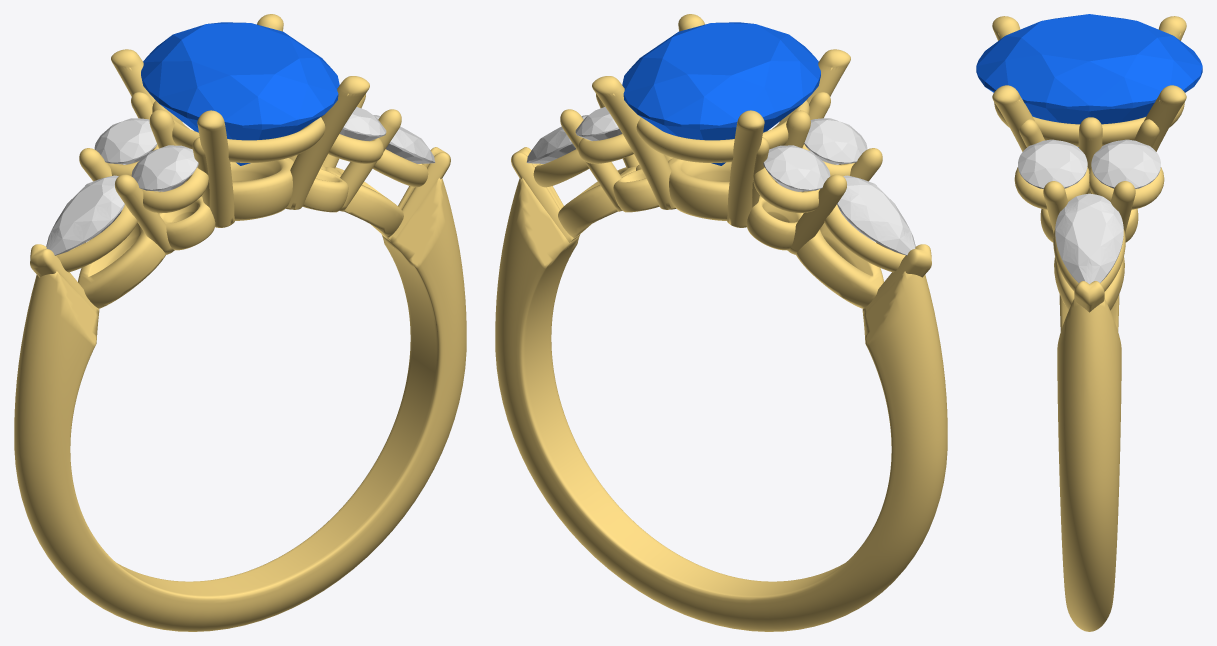
The model's file is RyanMongno3.13_blender.glb.
The picture shows the model from 3 angles, left to right: view 1: azimuth 30°, elevation 25°; view 2: azimuth 150°, elevation 25°; view 3: azimuth 270°, elevation 25°; orthographic projection.
Parts seen in each view (by area): view 1: 3.13 ct PT for 3d model, 3.13 ct sapph for 3d model, 2.66 ct dia for 3d model.001, 2.66 ct dia for 3d model.005, 2.66 ct dia for 3d model.004, 2.66 ct dia for 3d model.002, 2.66 ct dia for 3d model; view 2: 3.13 ct PT for 3d model, 3.13 ct sapph for 3d model, 2.66 ct dia for 3d model.001, 2.66 ct dia for 3d model.004, 2.66 ct dia for 3d model.005, 2.66 ct dia for 3d model.002, 2.66 ct dia for 3d model.003; view 3: 3.13 ct PT for 3d model, 3.13 ct sapph for 3d model, 2.66 ct dia for 3d model.002, 2.66 ct dia for 3d model, 2.66 ct dia for 3d model.003.
Boxes of the visible parts, left/top/right/bottom form: 3.13 ct PT for 3d model: left=14, top=14, right=466, bottom=631; 3.13 ct sapph for 3d model: left=141, top=22, right=339, bottom=165; 2.66 ct dia for 3d model.001: left=46, top=175, right=124, bottom=255; 2.66 ct dia for 3d model.005: left=131, top=145, right=198, bottom=191; 2.66 ct dia for 3d model.004: left=94, top=118, right=157, bottom=164; 2.66 ct dia for 3d model.002: left=373, top=115, right=435, bottom=163; 2.66 ct dia for 3d model: left=339, top=107, right=386, bottom=141; 3.13 ct PT for 3d model: left=495, top=14, right=947, bottom=631; 3.13 ct sapph for 3d model: left=622, top=22, right=820, bottom=165; 2.66 ct dia for 3d model.001: left=837, top=175, right=915, bottom=255; 2.66 ct dia for 3d model.004: left=763, top=145, right=830, bottom=191; 2.66 ct dia for 3d model.005: left=804, top=118, right=867, bottom=164; 2.66 ct dia for 3d model.002: left=526, top=115, right=588, bottom=163; 2.66 ct dia for 3d model.003: left=575, top=107, right=622, bottom=141; 3.13 ct PT for 3d model: left=992, top=16, right=1186, bottom=631; 3.13 ct sapph for 3d model: left=976, top=14, right=1202, bottom=147; 2.66 ct dia for 3d model.002: left=1055, top=193, right=1123, bottom=283; 2.66 ct dia for 3d model: left=1018, top=139, right=1087, bottom=188; 2.66 ct dia for 3d model.003: left=1091, top=139, right=1160, bottom=188.
Size of the model in its own units: 20.51 by 25.29 by 9.1.
